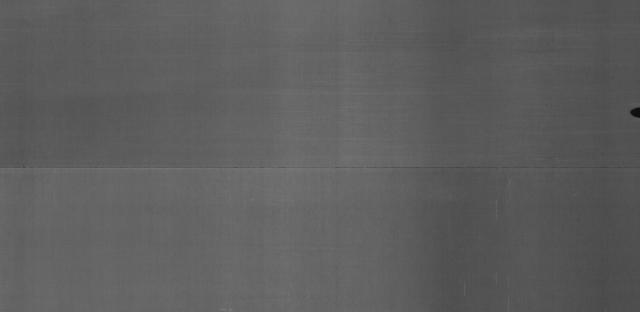punching_hole: (628, 107, 640, 121)
